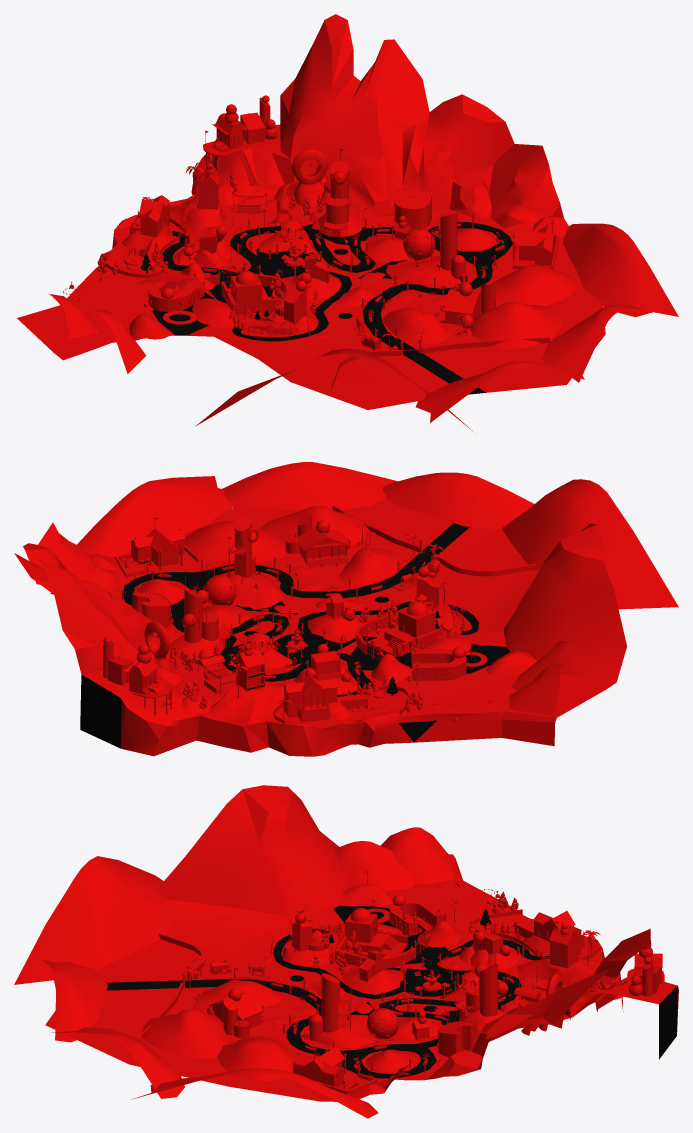
Rendered from Individual_BeverlyChills_03.glb.
3 views of the same model, one above another, from view 1: azimuth 30°, elevation 25°; view 2: azimuth 150°, elevation 25°; view 3: azimuth 270°, elevation 25° (orthographic).
Visible parts, largest first — view 1: pasted__polySurface265, BEVERLYCHILLS_OBJECT_14, polySurface130, polySurface132, BEVERLYCHILLS_OBJECT_9, BEVERLYCHILLS_OBJECT_60, BEVERLYCHILLS_OBJECT_77, polySurface144, BEVERLYCHILLS_OBJECT_59, BEVERLYCHILLS_OBJECT_46, BEVERLYCHILLS_OBJECT_41, BEVERLYCHILLS_OBJECT_45 (+16 smaller); view 2: pasted__polySurface265, BEVERLYCHILLS_OBJECT_14, polySurface145, polySurface130, polySurface132, polySurface144, BEVERLYCHILLS_OBJECT_9, BEVERLYCHILLS_OBJECT_60, BEVERLYCHILLS_OBJECT_77, BEVERLYCHILLS_OBJECT_41, BEVERLYCHILLS_OBJECT_47, polySurface147 (+16 smaller); view 3: pasted__polySurface265, BEVERLYCHILLS_OBJECT_14, polySurface145, polySurface144, BEVERLYCHILLS_OBJECT_60, polySurface146, polySurface147, polySurface132, BEVERLYCHILLS_OBJECT_77, polySurface130, BEVERLYCHILLS_OBJECT_59, BEVERLYCHILLS_OBJECT_41 (+17 smaller).
Boxes of the visible parts, bbox=[...] form: pasted__polySurface265: bbox=[17, 14, 605, 409]; BEVERLYCHILLS_OBJECT_14: bbox=[175, 228, 576, 349]; polySurface130: bbox=[562, 223, 678, 317]; polySurface132: bbox=[541, 304, 644, 382]; BEVERLYCHILLS_OBJECT_9: bbox=[122, 195, 172, 270]; BEVERLYCHILLS_OBJECT_60: bbox=[203, 266, 289, 314]; BEVERLYCHILLS_OBJECT_77: bbox=[317, 160, 362, 238]; polySurface144: bbox=[415, 361, 584, 422]; BEVERLYCHILLS_OBJECT_59: bbox=[236, 276, 317, 334]; BEVERLYCHILLS_OBJECT_46: bbox=[274, 149, 330, 207]; BEVERLYCHILLS_OBJECT_41: bbox=[438, 283, 495, 328]; BEVERLYCHILLS_OBJECT_45: bbox=[203, 104, 257, 186]; pasted__polySurface265: bbox=[14, 498, 626, 756]; BEVERLYCHILLS_OBJECT_14: bbox=[139, 506, 473, 683]; polySurface145: bbox=[502, 479, 678, 609]; polySurface130: bbox=[77, 476, 233, 557]; polySurface132: bbox=[222, 462, 397, 509]; polySurface144: bbox=[382, 472, 534, 529]; BEVERLYCHILLS_OBJECT_9: bbox=[283, 674, 395, 722]; BEVERLYCHILLS_OBJECT_60: bbox=[355, 601, 438, 660]; BEVERLYCHILLS_OBJECT_77: bbox=[169, 588, 230, 659]; BEVERLYCHILLS_OBJECT_41: bbox=[285, 514, 350, 566]; BEVERLYCHILLS_OBJECT_47: bbox=[410, 647, 487, 680]; polySurface147: bbox=[509, 663, 566, 715]; pasted__polySurface265: bbox=[45, 785, 678, 1101]; BEVERLYCHILLS_OBJECT_14: bbox=[142, 921, 464, 1080]; polySurface145: bbox=[14, 856, 171, 984]; polySurface144: bbox=[42, 960, 107, 1042]; BEVERLYCHILLS_OBJECT_60: bbox=[335, 908, 431, 968]; polySurface146: bbox=[334, 841, 415, 891]; polySurface147: bbox=[380, 827, 454, 884]; polySurface132: bbox=[51, 1027, 184, 1098]; BEVERLYCHILLS_OBJECT_77: bbox=[456, 964, 508, 1030]; polySurface130: bbox=[132, 1068, 378, 1118]; BEVERLYCHILLS_OBJECT_59: bbox=[282, 909, 337, 966]; BEVERLYCHILLS_OBJECT_41: bbox=[206, 988, 266, 1037].
Size of the model in its own units: 154 by 42.6 by 165.
